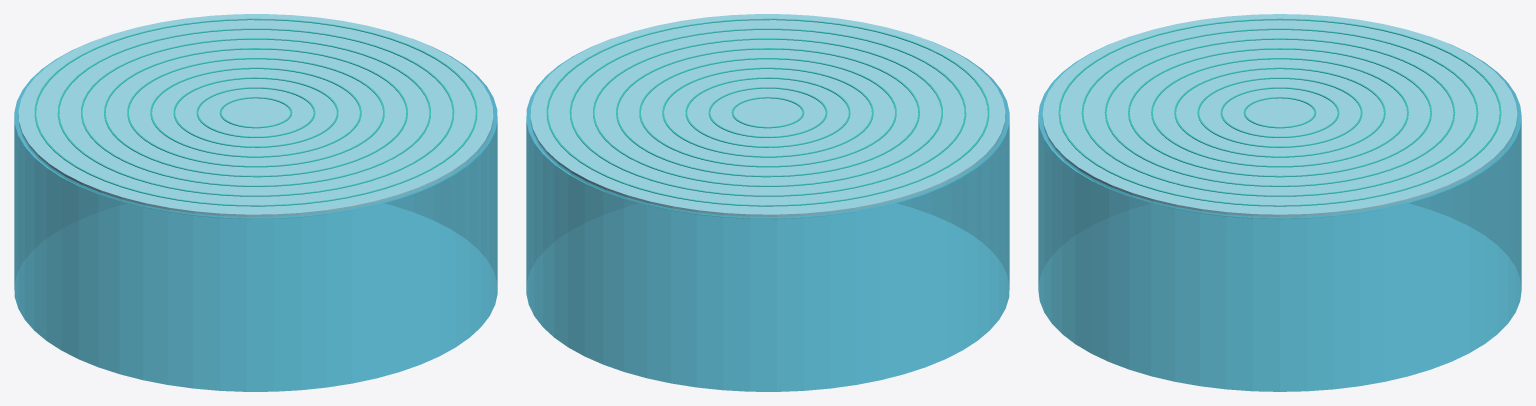
File: 03_L76_TransparentElectrolyteBasin.fbx
The picture shows the model from 3 angles, left to right: view 1: azimuth 30°, elevation 25°; view 2: azimuth 150°, elevation 25°; view 3: azimuth 270°, elevation 25°; orthographic projection.
Visible parts, largest first — view 1: TransparentElectrolyteBasin, TransparentElectrolyteBasin_Part_0001, TransparentElectrolyteBasin_Part_0010, TransparentElectrolyteBasin_Part_0009, TransparentElectrolyteBasin_Part_0008, TransparentElectrolyteBasin_Part_0007, TransparentElectrolyteBasin_Part_0006, TransparentElectrolyteBasin_Part_0005, TransparentElectrolyteBasin_Part_0004, TransparentElectrolyteBasin_Part_0003; view 2: TransparentElectrolyteBasin, TransparentElectrolyteBasin_Part_0001, TransparentElectrolyteBasin_Part_0010, TransparentElectrolyteBasin_Part_0009, TransparentElectrolyteBasin_Part_0008, TransparentElectrolyteBasin_Part_0007, TransparentElectrolyteBasin_Part_0006, TransparentElectrolyteBasin_Part_0005, TransparentElectrolyteBasin_Part_0004, TransparentElectrolyteBasin_Part_0003; view 3: TransparentElectrolyteBasin, TransparentElectrolyteBasin_Part_0001, TransparentElectrolyteBasin_Part_0010, TransparentElectrolyteBasin_Part_0009, TransparentElectrolyteBasin_Part_0008, TransparentElectrolyteBasin_Part_0007, TransparentElectrolyteBasin_Part_0006, TransparentElectrolyteBasin_Part_0005, TransparentElectrolyteBasin_Part_0004, TransparentElectrolyteBasin_Part_0003.
Boxes of the visible parts, x1=… form: TransparentElectrolyteBasin: x1=14, y1=38, x2=497, y2=391; TransparentElectrolyteBasin_Part_0001: x1=18, y1=14, x2=493, y2=218; TransparentElectrolyteBasin_Part_0010: x1=34, y1=18, x2=477, y2=206; TransparentElectrolyteBasin_Part_0009: x1=57, y1=28, x2=454, y2=196; TransparentElectrolyteBasin_Part_0008: x1=81, y1=38, x2=430, y2=186; TransparentElectrolyteBasin_Part_0007: x1=104, y1=48, x2=407, y2=177; TransparentElectrolyteBasin_Part_0006: x1=127, y1=58, x2=384, y2=167; TransparentElectrolyteBasin_Part_0005: x1=150, y1=67, x2=361, y2=157; TransparentElectrolyteBasin_Part_0004: x1=173, y1=77, x2=338, y2=147; TransparentElectrolyteBasin_Part_0003: x1=196, y1=87, x2=315, y2=137; TransparentElectrolyteBasin: x1=526, y1=38, x2=1009, y2=391; TransparentElectrolyteBasin_Part_0001: x1=530, y1=14, x2=1005, y2=218; TransparentElectrolyteBasin_Part_0010: x1=546, y1=18, x2=989, y2=206; TransparentElectrolyteBasin_Part_0009: x1=569, y1=28, x2=966, y2=196; TransparentElectrolyteBasin_Part_0008: x1=593, y1=38, x2=942, y2=186; TransparentElectrolyteBasin_Part_0007: x1=616, y1=48, x2=919, y2=177; TransparentElectrolyteBasin_Part_0006: x1=639, y1=58, x2=896, y2=167; TransparentElectrolyteBasin_Part_0005: x1=662, y1=67, x2=873, y2=157; TransparentElectrolyteBasin_Part_0004: x1=685, y1=77, x2=850, y2=147; TransparentElectrolyteBasin_Part_0003: x1=708, y1=87, x2=827, y2=137; TransparentElectrolyteBasin: x1=1038, y1=37, x2=1521, y2=391; TransparentElectrolyteBasin_Part_0001: x1=1042, y1=14, x2=1517, y2=218; TransparentElectrolyteBasin_Part_0010: x1=1058, y1=18, x2=1501, y2=206; TransparentElectrolyteBasin_Part_0009: x1=1081, y1=28, x2=1478, y2=196; TransparentElectrolyteBasin_Part_0008: x1=1104, y1=38, x2=1455, y2=186; TransparentElectrolyteBasin_Part_0007: x1=1128, y1=48, x2=1431, y2=177; TransparentElectrolyteBasin_Part_0006: x1=1151, y1=58, x2=1408, y2=167; TransparentElectrolyteBasin_Part_0005: x1=1174, y1=67, x2=1385, y2=157; TransparentElectrolyteBasin_Part_0004: x1=1197, y1=77, x2=1362, y2=147; TransparentElectrolyteBasin_Part_0003: x1=1220, y1=87, x2=1339, y2=137.
Bounding box in the file's own units: 334 × 135 × 334.
